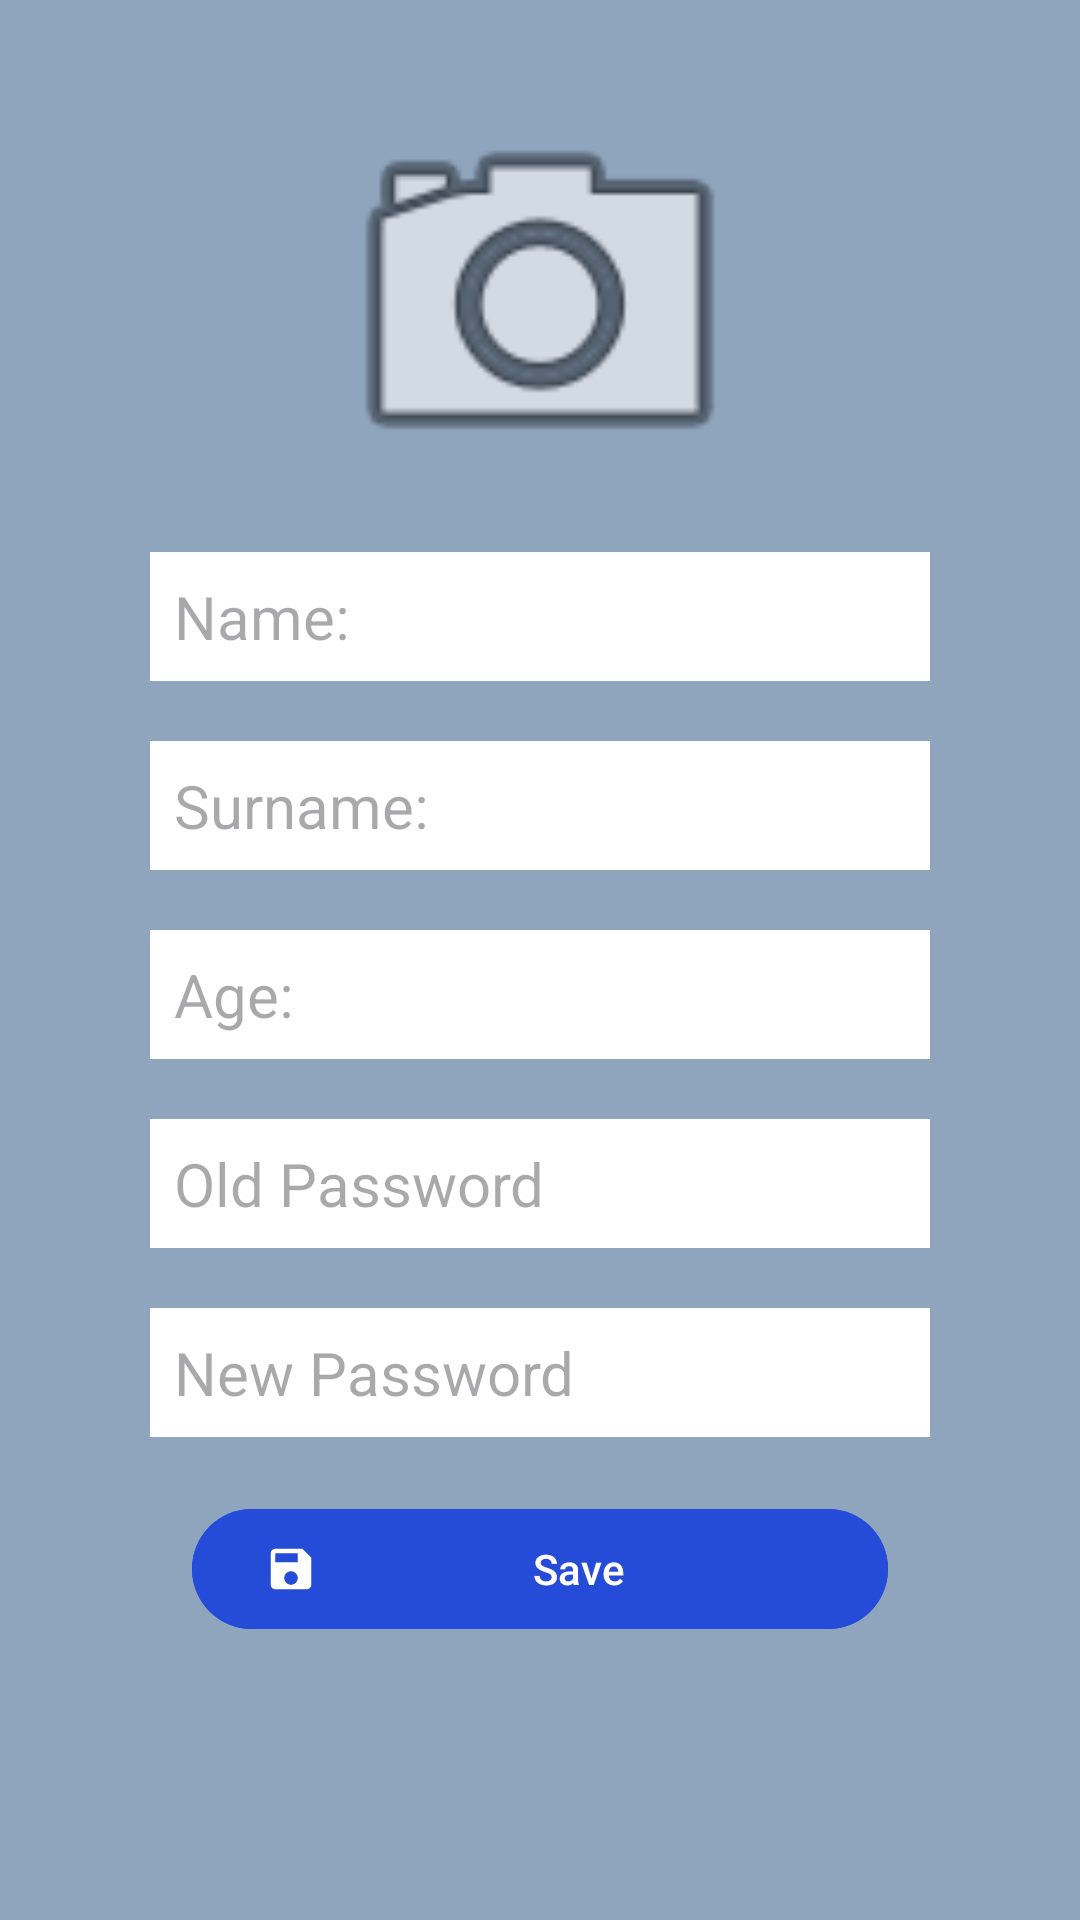

Icons on this 1080px x 1920px Android screen, each with the point to tap as point (x, y):
camera: point (540, 290)
